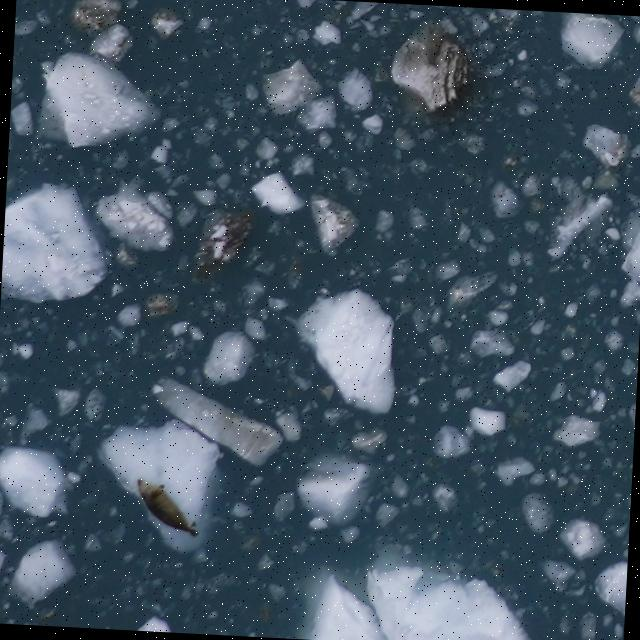seal: (132, 476, 205, 542)
